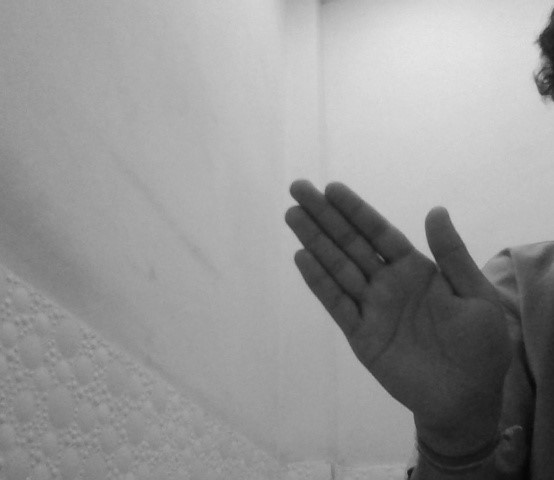Hello: (278, 175, 513, 420)
